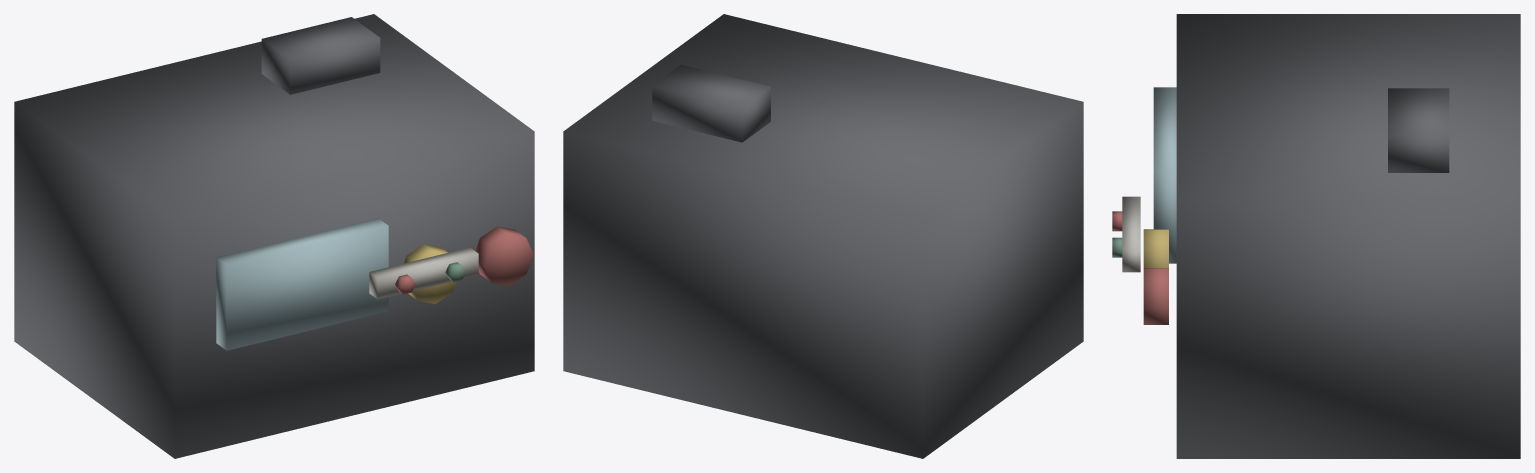
Rendered from component_tester__service.glb.
3 views of the same model, side by side, from view 1: azimuth 30°, elevation 25°; view 2: azimuth 150°, elevation 25°; view 3: azimuth 270°, elevation 25° (orthographic). The views are drawn at different scales.
Parts seen in each view (by area): view 1: world; view 2: world; view 3: world.
Part boxes in pixels (<box>): world: <box>14,14,534,458</box>; world: <box>563,14,1083,458</box>; world: <box>1112,14,1520,458</box>.
Bounding box in the file's own units: 0.44 × 0.321 × 0.4035.
